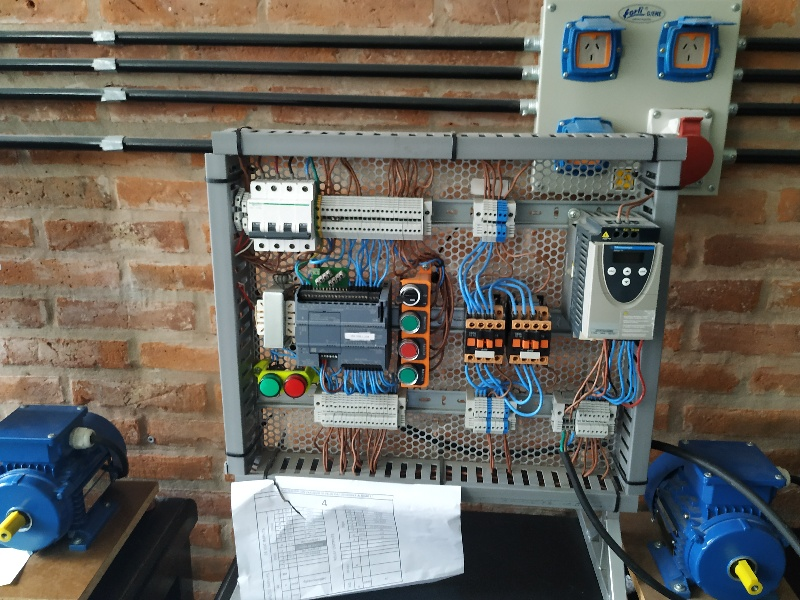Tablero 4: (220, 143, 665, 506)
